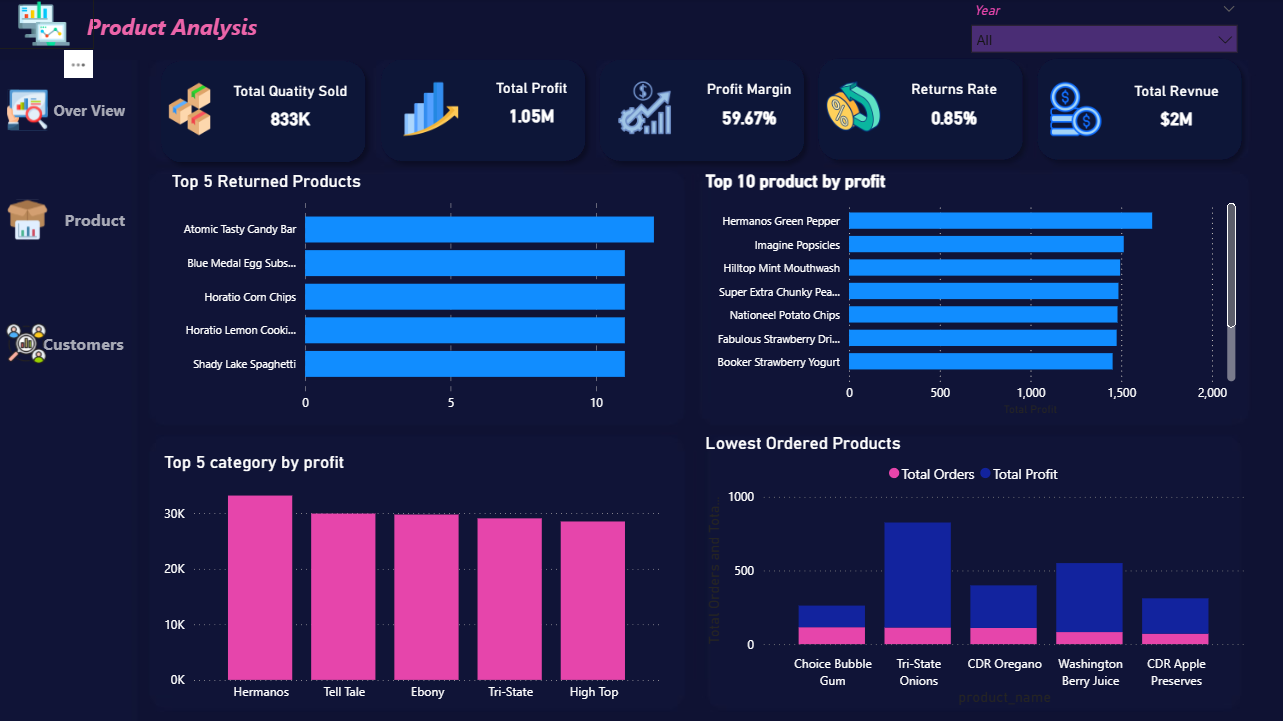

The dashboard page shown, as its layout file describes it:
{"tool":"powerbi","page":{"name":"Product Analysis","canvas":[1280,720],"ordinal":1},"visuals":[{"type":"textbox","box":[87.5,8.8,205,50],"z":0},{"type":"image","box":[0,0,100,50],"z":1000},{"type":"actionButton","box":[9.8,62.6,123.9,94.5],"z":2000},{"type":"actionButton","box":[10,170,123.8,93.8],"z":3000},{"type":"actionButton","box":[8.8,292.5,123.8,93.8],"z":4000},{"type":"shape","box":[156.2,52.5,218.8,117.5],"z":5000},{"type":"shape","box":[371.2,51.2,218.8,117.5],"z":6000},{"type":"shape","box":[586.2,51.2,218.8,117.5],"z":7000},{"type":"shape","box":[801.2,50,218.8,117.5],"z":8000},{"type":"shape","box":[1016.2,50,218.8,117.5],"z":9000},{"type":"card","title":"Total Quatity Sold","fields":{"Values":["Dax_Measure.Total Quantity"]},"box":[230,82.5,125,57.5],"z":10000},{"type":"image","box":[156.2,82.5,73.8,53.8],"z":11000},{"type":"card","title":"Total Profit","fields":{"Values":["Dax_Measure.Total Profit"]},"box":[466.2,80,125,57.5],"z":12000},{"type":"image","box":[392.5,82.5,73.8,53.8],"z":13000},{"type":"image","box":[602.5,81.2,73.8,53.8],"z":14000},{"type":"card","title":" Profit Margin","fields":{"Values":["Dax_Measure.Profit Margin %"]},"box":[680,81.2,125,57.5],"z":15000},{"type":"card","title":" Returns Rate","fields":{"Values":["Dax_Measure.Return Rate %"]},"box":[880.8,81.2,125,57.5],"z":16000},{"type":"image","box":[807.5,80,73.8,53.8],"z":17000},{"type":"card","title":"Total Revnue","fields":{"Values":["Dax_Measure.Total Revenue"]},"box":[1100,82.5,125,57.5],"z":18000},{"type":"image","box":[1026.2,82.5,73.8,53.8],"z":19000},{"type":"clusteredColumnChart","title":"Top 5 category by profit","fields":{"Y":["Dax_Measure.Total Profit"],"Category":["Products.product_brand"]},"box":[163.5,445.1,497.3,254.1],"z":20000},{"type":"clusteredBarChart","title":"Top 5 Returned Products","fields":{"Category":["Products.product_name"],"Y":["Dax_Measure.Total Returns"]},"box":[170.3,169,490.4,245.9],"z":21000},{"type":"clusteredBarChart","title":"Top 10 product by profit","fields":{"Category":["Products.product_name"],"Y":["Dax_Measure.Total Profit"]},"box":[695.1,169,530.2,245.9],"z":22000},{"type":"columnChart","title":"Lowest Ordered Products","fields":{"Category":["Products.product_name"],"Y":["Dax_Measure.Total Orders","Dax_Measure.Total Profit"]},"box":[695.1,427.2,539.9,272],"z":23000},{"type":"slicer","fields":{"Values":["Dim_Date.Year"]},"box":[949.7,0,282.2,77.3],"z":24000}]}

Visuals, with their boxes on the page's 1280x720 design canvas (x1, y1, x2, y2). These are canvas units, not pixel positions in the 1283x721 screenshot, which may show the page scaled, cropped or inside an application window:
textbox: [left=88, top=9, right=292, bottom=59]
image: [left=0, top=0, right=100, bottom=50]
actionButton: [left=10, top=63, right=134, bottom=157]
actionButton: [left=10, top=170, right=134, bottom=264]
actionButton: [left=9, top=292, right=133, bottom=386]
shape: [left=156, top=52, right=375, bottom=170]
shape: [left=371, top=51, right=590, bottom=169]
shape: [left=586, top=51, right=805, bottom=169]
shape: [left=801, top=50, right=1020, bottom=168]
shape: [left=1016, top=50, right=1235, bottom=168]
"Total Quatity Sold" card: [left=230, top=82, right=355, bottom=140]
image: [left=156, top=82, right=230, bottom=136]
"Total Profit" card: [left=466, top=80, right=591, bottom=138]
image: [left=392, top=82, right=466, bottom=136]
image: [left=602, top=81, right=676, bottom=135]
" Profit Margin" card: [left=680, top=81, right=805, bottom=139]
" Returns Rate" card: [left=881, top=81, right=1006, bottom=139]
image: [left=808, top=80, right=881, bottom=134]
"Total Revnue" card: [left=1100, top=82, right=1225, bottom=140]
image: [left=1026, top=82, right=1100, bottom=136]
"Top 5 category by profit" clusteredColumnChart: [left=164, top=445, right=661, bottom=699]
"Top 5 Returned Products" clusteredBarChart: [left=170, top=169, right=661, bottom=415]
"Top 10 product by profit" clusteredBarChart: [left=695, top=169, right=1225, bottom=415]
"Lowest Ordered Products" columnChart: [left=695, top=427, right=1235, bottom=699]
slicer - Dim_Date.Year: [left=950, top=0, right=1232, bottom=77]
